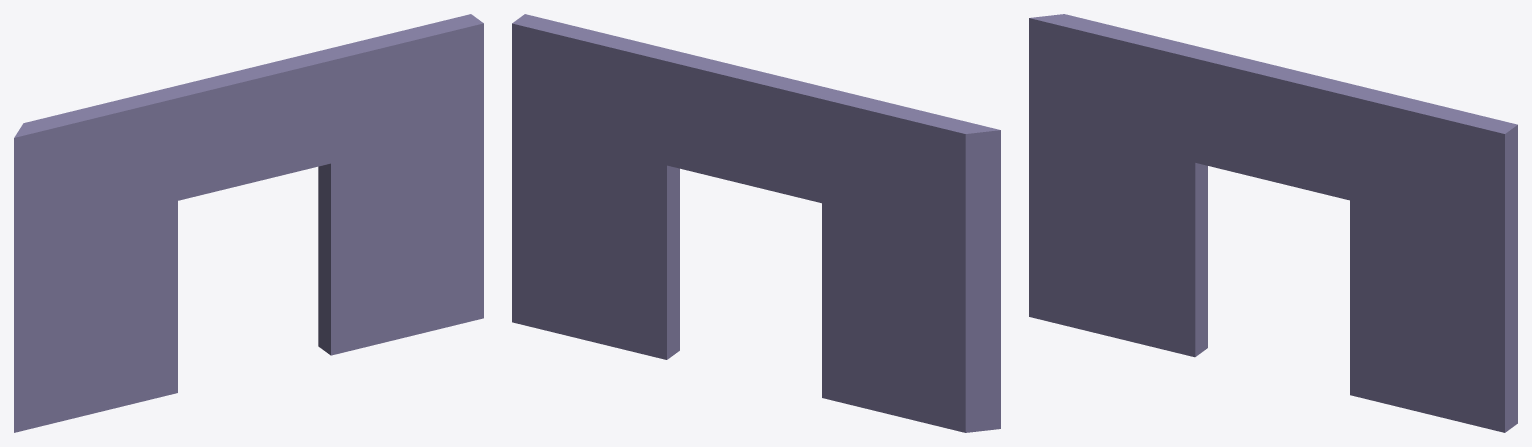
File: Walls and Floors with Doors.fbx_CWall_Inner_Flat_Door.fbx
3 views of the same model, side by side, from view 1: azimuth 30°, elevation 25°; view 2: azimuth 150°, elevation 25°; view 3: azimuth 330°, elevation 25° (orthographic).
Visible parts, largest first — view 1: CWall Inner Flat Door; view 2: CWall Inner Flat Door; view 3: CWall Inner Flat Door.
Part boxes in pixels (bbox=[...]): CWall Inner Flat Door: bbox=[14, 14, 483, 432]; CWall Inner Flat Door: bbox=[512, 14, 1000, 432]; CWall Inner Flat Door: bbox=[1029, 14, 1517, 432].
Bounding box in the file's own units: 1500 × 900 × 70.71.
